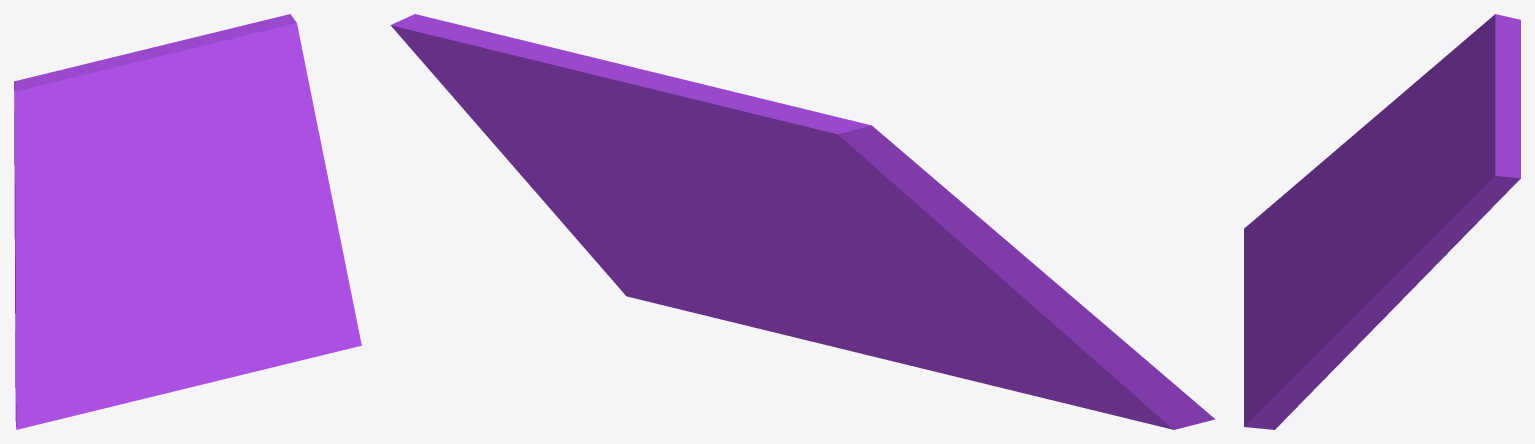
The model's file is Window_94_chunks.fbx.
The picture shows the model from 3 angles, left to right: view 1: azimuth 30°, elevation 25°; view 2: azimuth 150°, elevation 25°; view 3: azimuth 270°, elevation 25°; orthographic projection. The views are drawn at different scales.
Visible parts, largest first — view 1: Window_94_6, Window_94_2, Window_94_5, Window_94_17, Window_94_20, Window_94_7, Window_94_29, Window_94_9, Window_94_15, Window_94_4, Window_94_26, Window_94_3 (+19 smaller); view 2: Window_94_7, Window_94_6, Window_94_2, Window_94_4, Window_94_8, Window_94_20, Window_94_9, Window_94_26, Window_94_1, Window_94_25, Window_94_29, Window_94_17 (+15 smaller); view 3: Window_94_2, Window_94_5, Window_94_29, Window_94_6, Window_94_17, Window_94_7, Window_94_20, Window_94_9, Window_94_25, Window_94_26, Window_94_15, Window_94_4 (+18 smaller).
Boxes of the visible parts, x1,y1,x2,y2 form: Window_94_6: (15, 177, 117, 351); Window_94_2: (268, 193, 361, 356); Window_94_5: (66, 59, 210, 153); Window_94_17: (193, 253, 315, 375); Window_94_20: (15, 353, 147, 429); Window_94_7: (14, 76, 80, 245); Window_94_29: (220, 14, 307, 101); Window_94_9: (34, 69, 147, 191); Window_94_15: (139, 327, 236, 397); Window_94_4: (115, 146, 200, 216); Window_94_26: (104, 39, 222, 104); Window_94_3: (218, 180, 330, 254); Window_94_7: (806, 116, 1016, 291); Window_94_6: (891, 239, 1119, 377); Window_94_2: (527, 182, 752, 326); Window_94_4: (622, 114, 753, 216); Window_94_8: (753, 200, 961, 314); Window_94_20: (996, 360, 1214, 429); Window_94_9: (753, 105, 845, 212); Window_94_26: (544, 45, 692, 129); Window_94_1: (675, 213, 779, 323); Window_94_25: (448, 91, 634, 181); Window_94_29: (390, 14, 541, 109); Window_94_17: (752, 266, 861, 352); Window_94_2: (1244, 301, 1378, 429); Window_94_5: (1415, 43, 1520, 188); Window_94_29: (1445, 135, 1520, 234); Window_94_6: (1314, 103, 1419, 189); Window_94_17: (1244, 263, 1338, 400); Window_94_7: (1391, 14, 1520, 116); Window_94_20: (1244, 187, 1294, 303); Window_94_9: (1397, 27, 1520, 172); Window_94_25: (1380, 231, 1460, 297); Window_94_26: (1453, 71, 1520, 158); Window_94_15: (1244, 257, 1294, 354); Window_94_4: (1371, 122, 1436, 221).
Bounding box in the file's own units: 1453 × 829 × 756.
